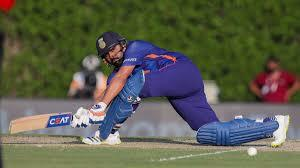batsman: (65, 26, 299, 165)
